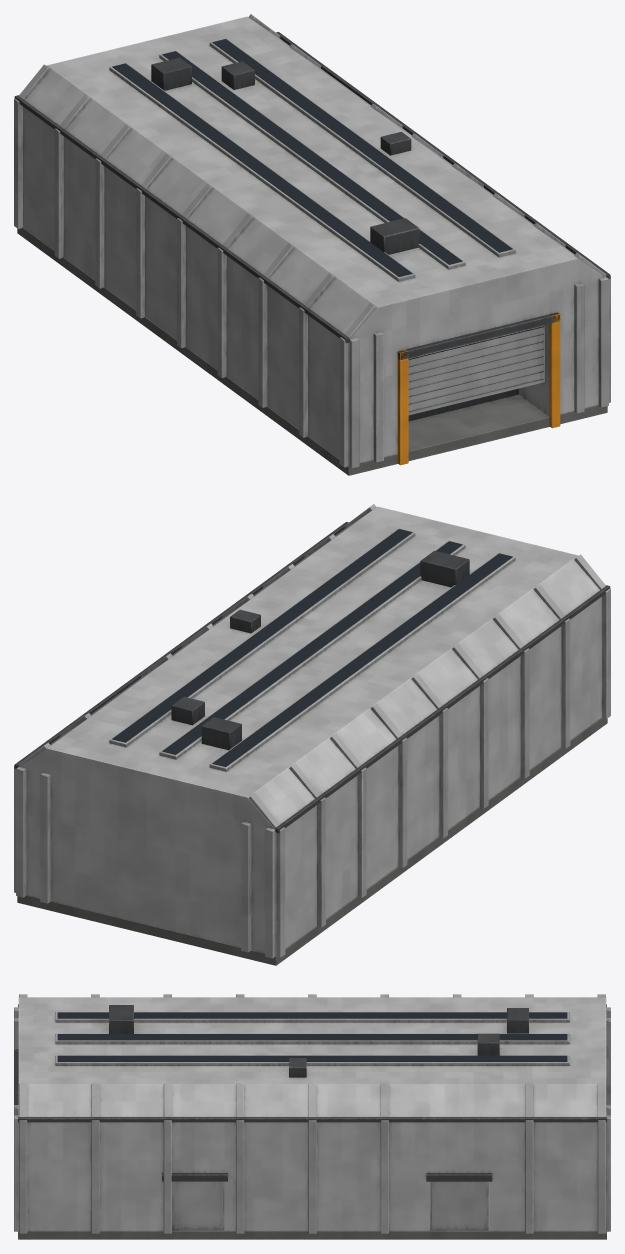
Rendered from hall.glb.
The picture shows the model from 3 angles, top to bottom: view 1: azimuth 30°, elevation 25°; view 2: azimuth 150°, elevation 25°; view 3: azimuth 270°, elevation 25°; orthographic projection. The views are drawn at different scales.
Visible parts, largest first — view 1: hall; view 2: hall; view 3: hall.
Part boxes in pixels (x1,y1,x2,y2): hall: [14, 14, 610, 475]; hall: [14, 504, 610, 965]; hall: [14, 994, 610, 1239].
Size of the model in its own units: 37.3 by 24.1 by 81.3.
1 material, 1 textured.
